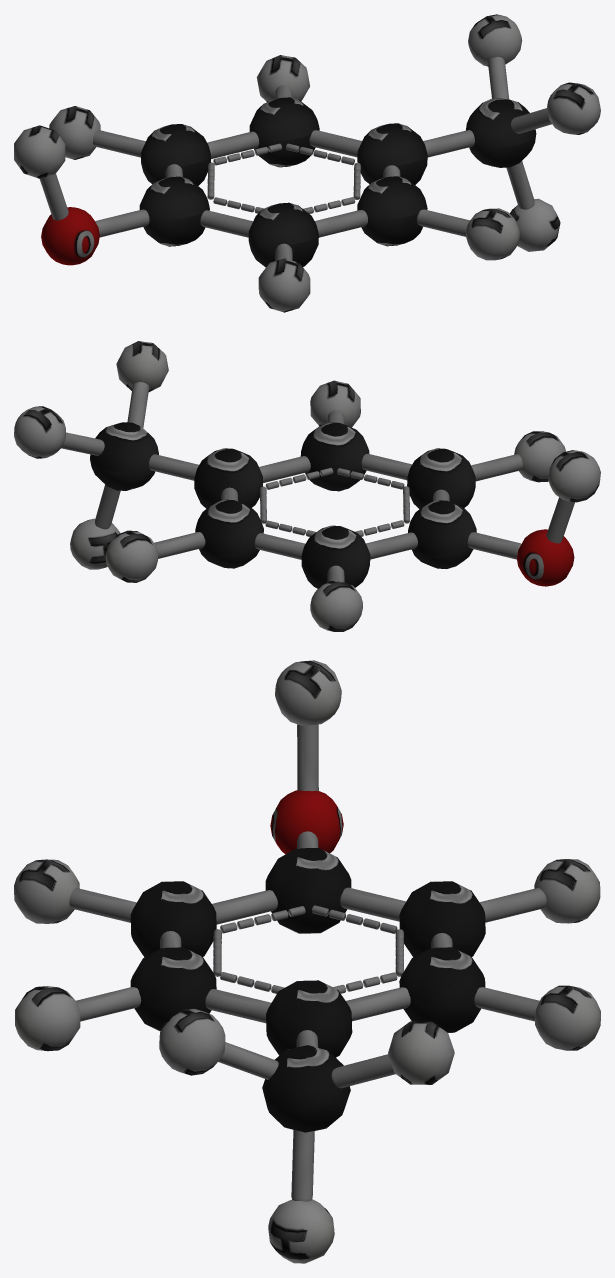
The model's file is Methylphenol_4.gltf.
3 renders of one model, top to bottom at view 1: azimuth 30°, elevation 25°; view 2: azimuth 150°, elevation 25°; view 3: azimuth 270°, elevation 25°, orthographic. The views are drawn at different scales.
Parts seen in each view (by area): view 1: C_Atom_012, C_Atom_010, C_Atom_016, C_Atom_09, C_Atom_07, C_Atom_011, C_Atom_08, C_Atom_013, H_Atom_07, H_Atom_017, H_Atom_012, Methylphenol_dot_Symbol1 (+17 smaller); view 2: C_Atom_012, C_Atom_09, C_Atom_016, C_Atom_010, C_Atom_08, C_Atom_07, C_Atom_011, C_Atom_013, H_Atom_011, H_Atom_09, H_Atom_010, H_Atom_018 (+17 smaller); view 3: C_Atom_016, C_Atom_09, C_Atom_012, C_Atom_08, C_Atom_010, C_Atom_011, C_Atom_07, H_Atom_011, H_Atom_017, H_Atom_09, H_Atom_07, C_Atom_013 (+17 smaller).
Boxes of the visible parts, box(x1,y1,x2,y2) form: C_Atom_012: box(139, 176, 209, 246); C_Atom_010: box(357, 176, 427, 246); C_Atom_016: box(466, 98, 536, 167); C_Atom_09: box(249, 97, 319, 167); C_Atom_07: box(248, 202, 318, 267); C_Atom_011: box(357, 123, 427, 184); C_Atom_08: box(141, 124, 210, 185); C_Atom_013: box(41, 207, 99, 265); H_Atom_07: box(466, 208, 519, 260); H_Atom_017: box(547, 82, 600, 134); H_Atom_012: box(258, 258, 310, 312); Methylphenol_dot_Symbol1: box(207, 143, 360, 213); C_Atom_012: box(408, 500, 476, 568); C_Atom_09: box(195, 499, 263, 568); C_Atom_016: box(90, 422, 158, 490); C_Atom_010: box(300, 422, 369, 491); C_Atom_08: box(301, 525, 370, 588); C_Atom_07: box(407, 448, 475, 508); C_Atom_011: box(194, 448, 262, 508); C_Atom_013: box(516, 529, 574, 586); H_Atom_011: box(548, 450, 600, 502); H_Atom_09: box(105, 530, 158, 582); H_Atom_010: box(310, 581, 362, 631); H_Atom_018: box(14, 406, 65, 458); C_Atom_016: box(262, 1045, 350, 1132); C_Atom_09: box(399, 947, 485, 1032); C_Atom_012: box(265, 848, 351, 933); C_Atom_08: box(399, 881, 485, 957); C_Atom_010: box(130, 947, 216, 1031); C_Atom_011: box(266, 980, 352, 1057); C_Atom_07: box(130, 881, 216, 957); H_Atom_011: box(275, 660, 341, 725); H_Atom_017: box(159, 1008, 225, 1075); H_Atom_09: box(535, 985, 600, 1050); H_Atom_07: box(15, 986, 80, 1051); C_Atom_013: box(270, 790, 343, 854).
Size of the model in its own units: 1.86 by 0.7797 by 1.39.
Materials: 4 (4 with a texture image).
